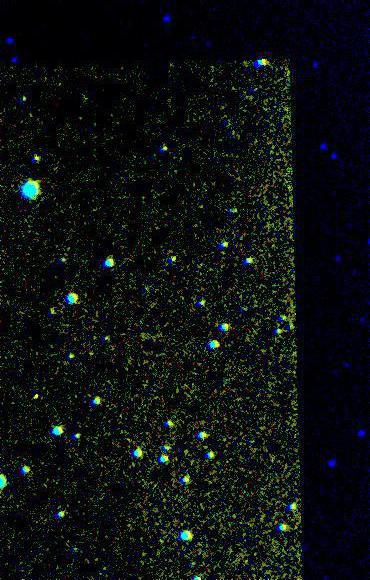star: (24, 381, 54, 411)
